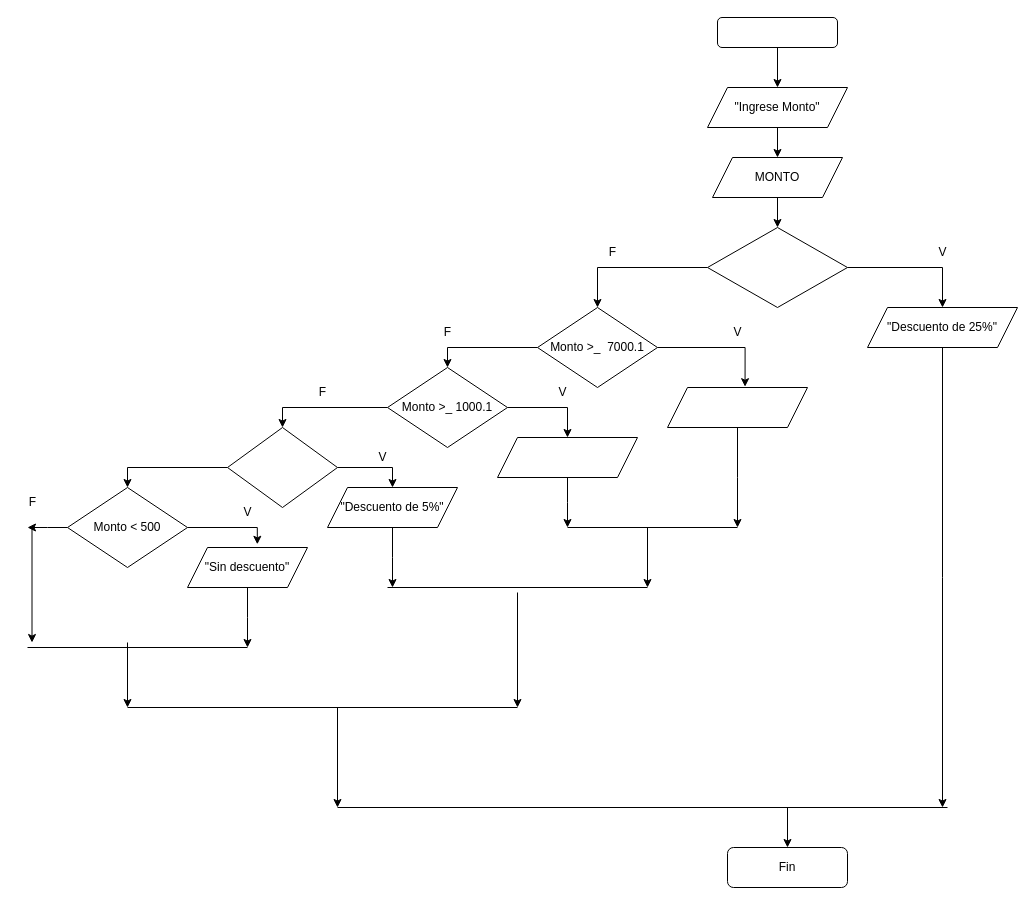
This 1035x905 diagram has some shape labels left out. The box of each missing label's shape, as (x1, y1, x2, y2) in pixels:
"Descuento de 11%": (496, 436, 638, 478)
"Descuento de 18%": (666, 386, 808, 428)
inicio: (716, 16, 838, 48)
Monto >_ 15000.1: (706, 226, 848, 308)
Monto >_ 500.1: (226, 426, 338, 508)
